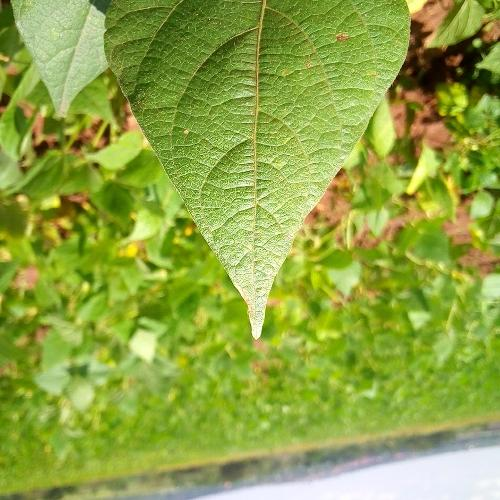hawar: (328, 27, 353, 44)
sehat: (170, 92, 306, 178)
